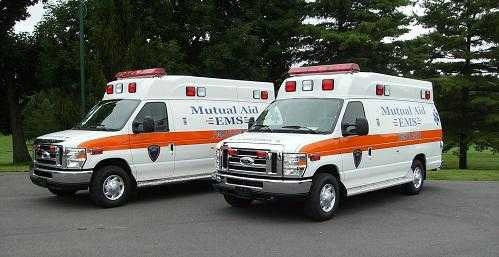Ambulance: (25, 65, 287, 213), (213, 68, 450, 217)
